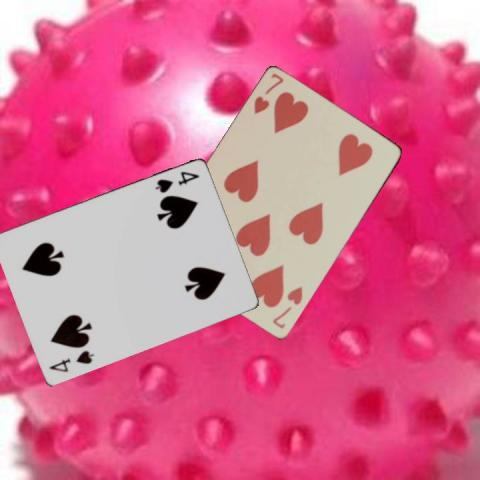4s: (152, 167, 201, 194), (46, 347, 96, 373)
7h: (269, 283, 305, 331), (251, 71, 285, 116)
